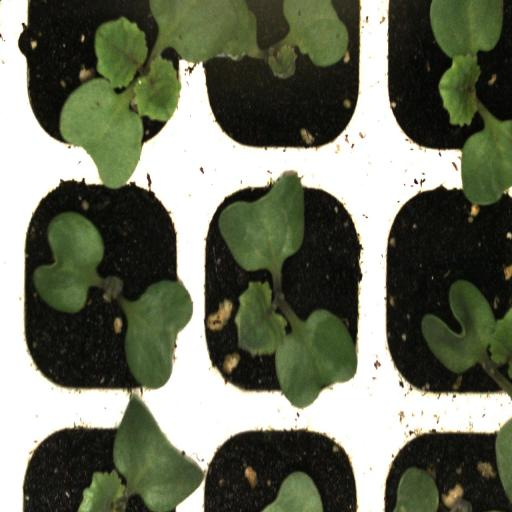seedling: (12, 167, 190, 405), (190, 172, 371, 404), (188, 0, 374, 173), (10, 0, 192, 166), (375, 1, 512, 176)
